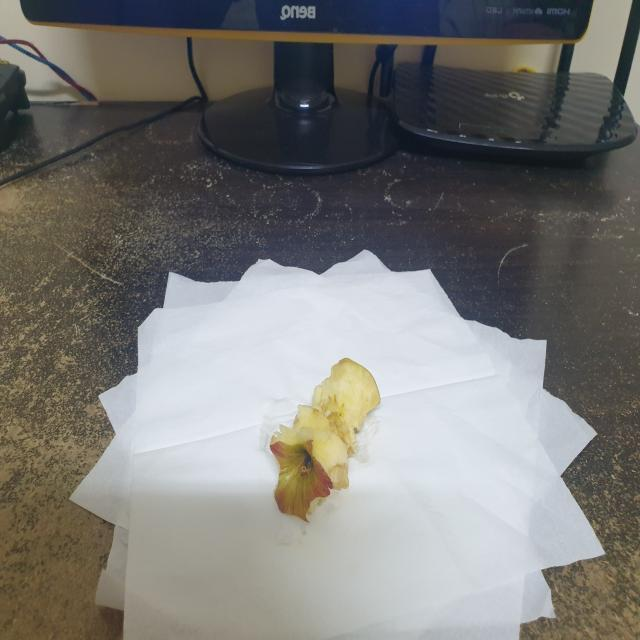apple: (268, 352, 382, 530)
